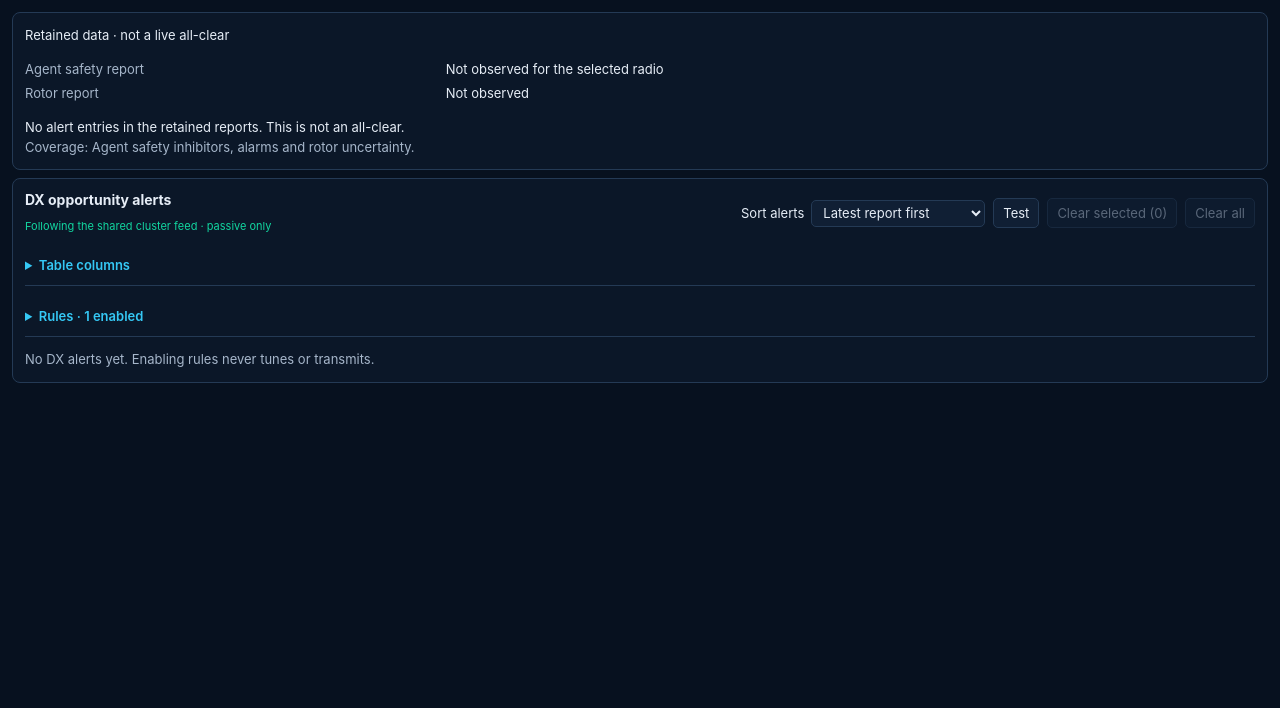
Test: reports entity-directory failure and retries without losing a rule's saved entity IDs
Expected: the element named "Rule 1 name" is shown, [25,296,1255,338]
Click the heading "Rules · 1 enabled" at (91, 316), box [39,308,143,324]
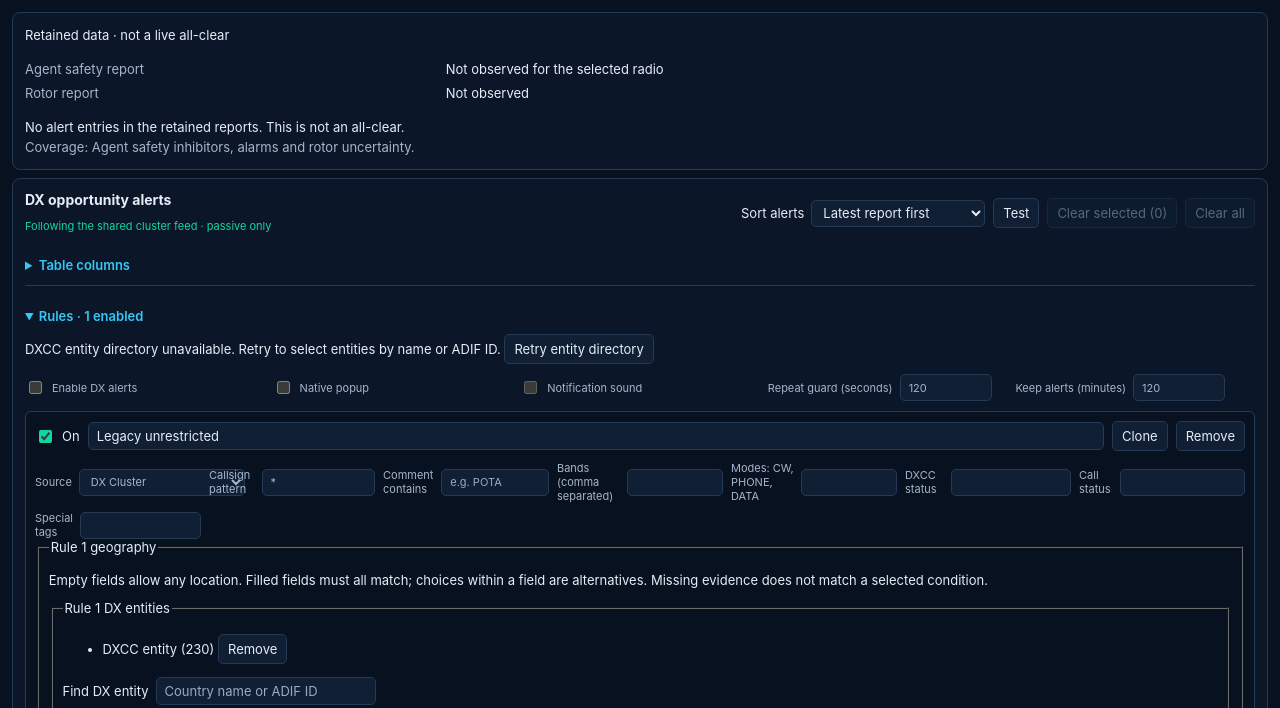
Expected: the text "DXCC entity directory unavailable" is shown, [25,341,501,357]
Expected: the list item "DXCC entity (230)" is shown, [102,641,214,657]
Click the button "Retry entity directory" at (579, 350), box [504,334,654,364]
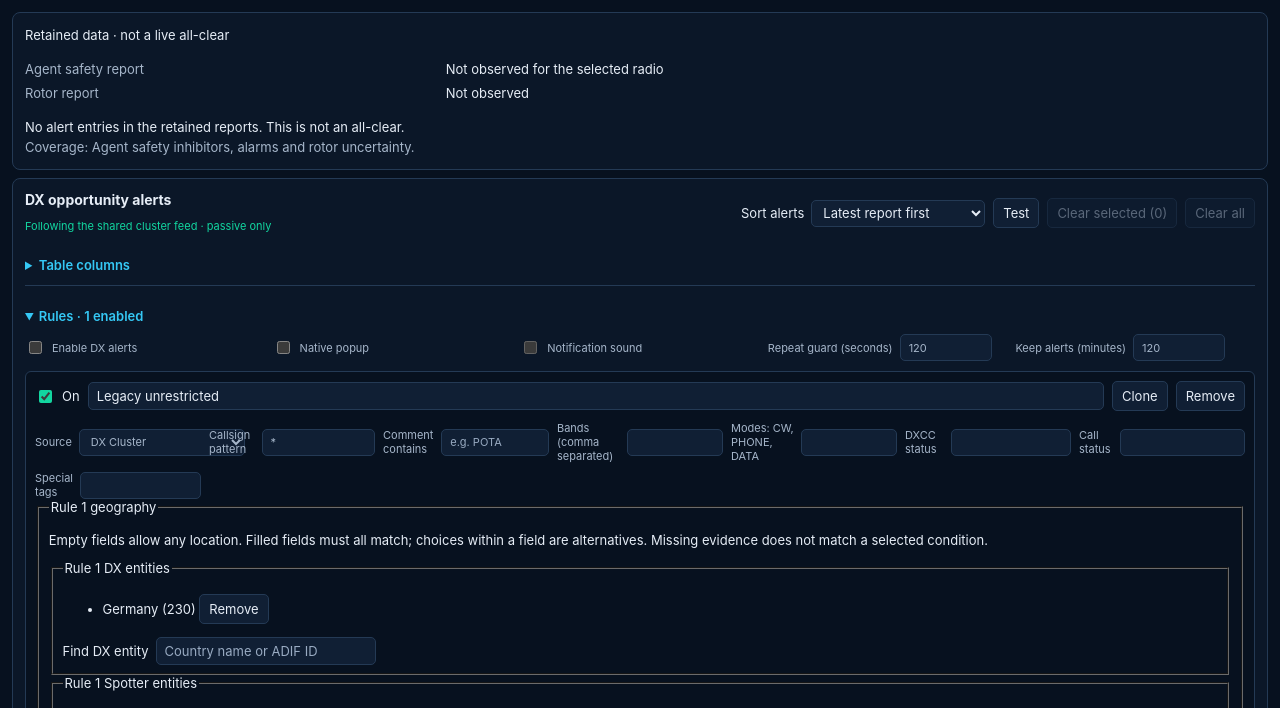
Expected: the list item "Germany (230)" is shown, [102,601,196,617]
